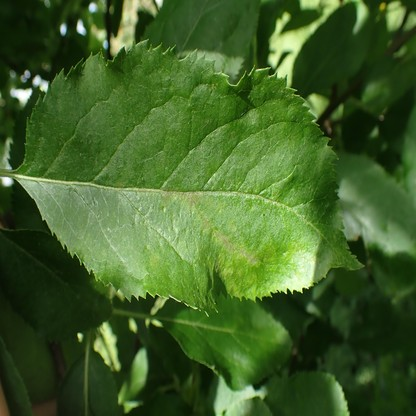scab: (190, 200, 258, 264), (162, 190, 206, 203), (150, 253, 160, 270)
